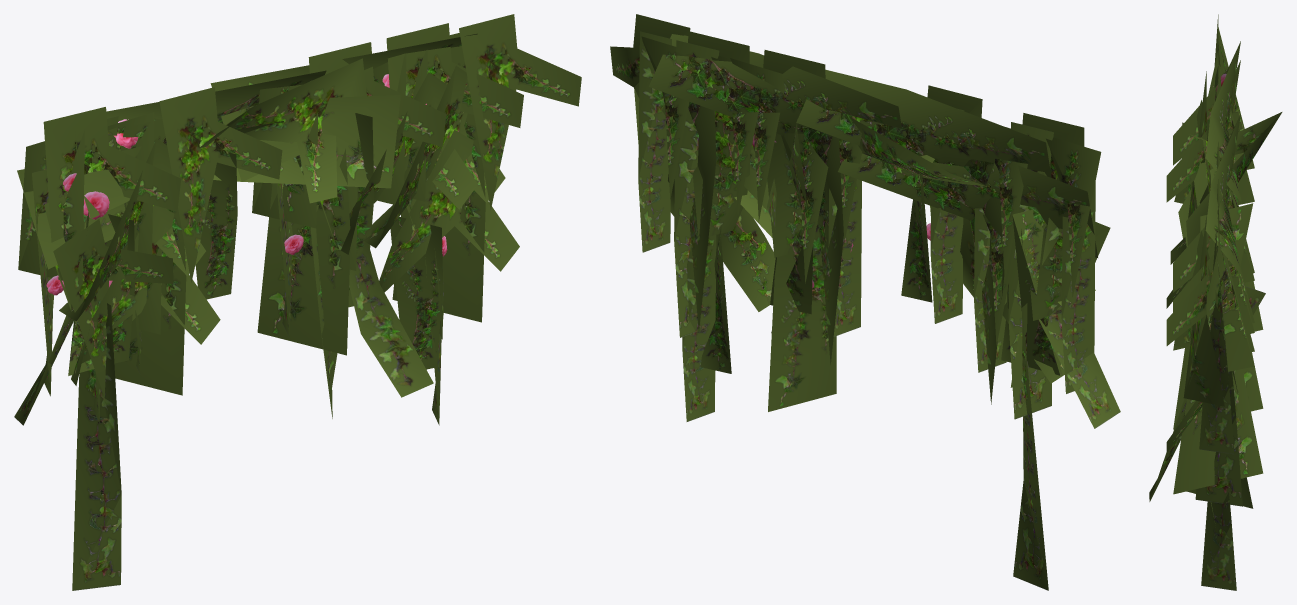
Rendered from ivy03_lod1.fbx.
3 views of the same model, side by side, from view 1: azimuth 30°, elevation 25°; view 2: azimuth 150°, elevation 25°; view 3: azimuth 270°, elevation 25° (orthographic). The views are drawn at different scales.
Visible parts, largest first — view 1: Mesh Object; view 2: Mesh Object; view 3: Mesh Object.
Boxes of the visible parts, x1,y1,x2,y2 form: Mesh Object: (14,14,581,590); Mesh Object: (610,14,1120,590); Mesh Object: (1149,14,1282,590).
Size of the model in its own units: 2.4 by 2.03 by 0.5213.
